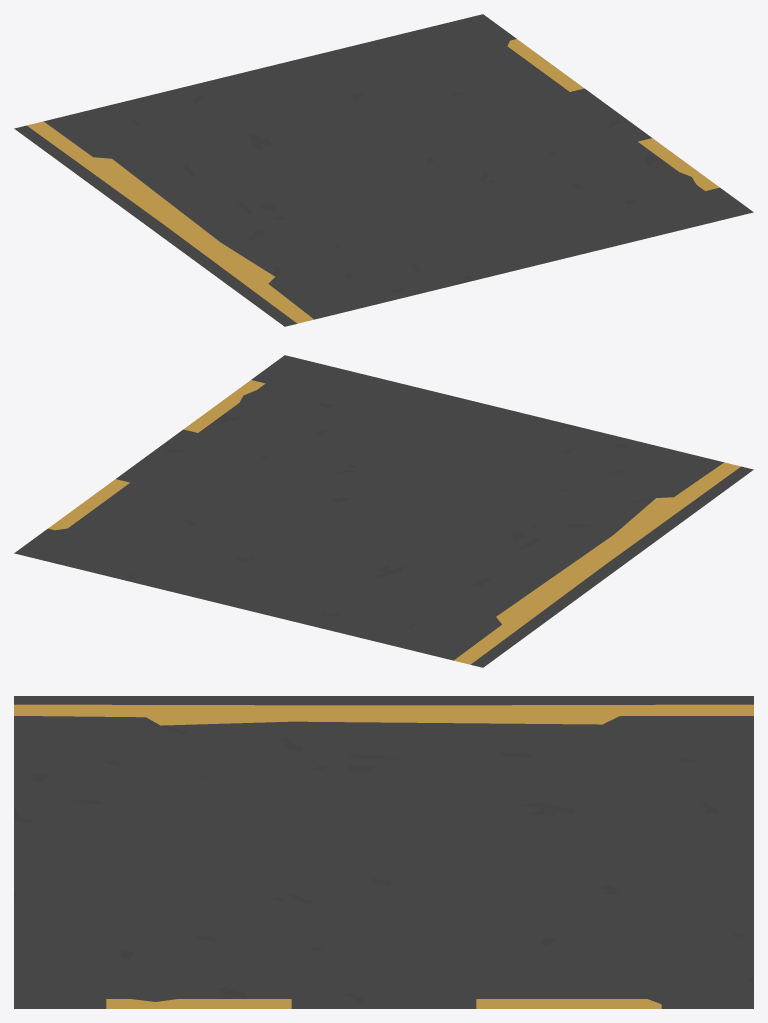
File: SM_Env_Road_YellowLines_02_SF.fbx
The picture shows the model from 3 angles, top to bottom: view 1: azimuth 30°, elevation 25°; view 2: azimuth 150°, elevation 25°; view 3: azimuth 270°, elevation 25°; orthographic projection. The views are drawn at different scales.
Visible parts, largest first — view 1: SM_Env_Road_YellowLines_02_SF; view 2: SM_Env_Road_YellowLines_02_SF; view 3: SM_Env_Road_YellowLines_02_SF.
Boxes of the visible parts, x1=… form: SM_Env_Road_YellowLines_02_SF: x1=14, y1=14, x2=753, y2=326; SM_Env_Road_YellowLines_02_SF: x1=14, y1=355, x2=753, y2=667; SM_Env_Road_YellowLines_02_SF: x1=14, y1=696, x2=753, y2=1008.
Size of the model in its own units: 500 by 3.65e-05 by 500.
